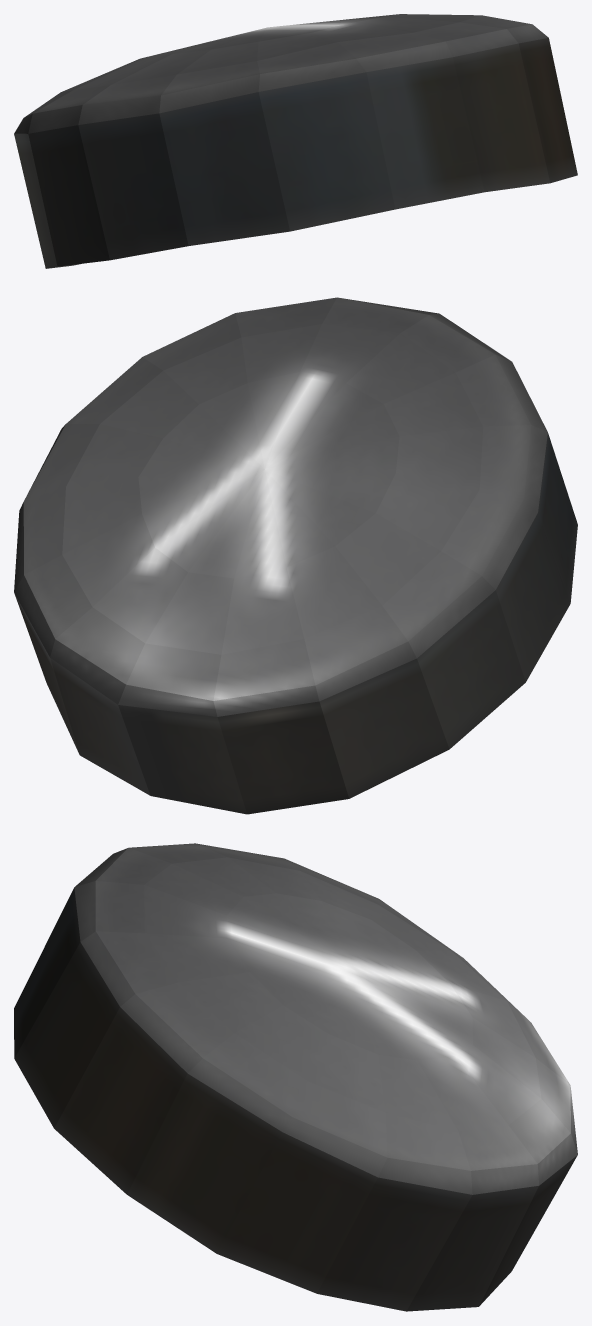
Rendered from pfd_mr_controller_left_ybutton.obj.
3 renders of one model, top to bottom at view 1: azimuth 30°, elevation 25°; view 2: azimuth 150°, elevation 25°; view 3: azimuth 270°, elevation 25°, orthographic. The views are drawn at different scales.
Parts seen in each view (by area): view 1: pfd_mr_controller_left_ybutton; view 2: pfd_mr_controller_left_ybutton; view 3: pfd_mr_controller_left_ybutton.
Boxes of the visible parts, x1,y1,x2,y2 form: pfd_mr_controller_left_ybutton: (14, 14, 577, 268); pfd_mr_controller_left_ybutton: (14, 297, 577, 814); pfd_mr_controller_left_ybutton: (14, 843, 577, 1311).
Bounding box in the file's own units: 0.0104 × 0.00727 × 0.0105.
1 material, 1 textured.
